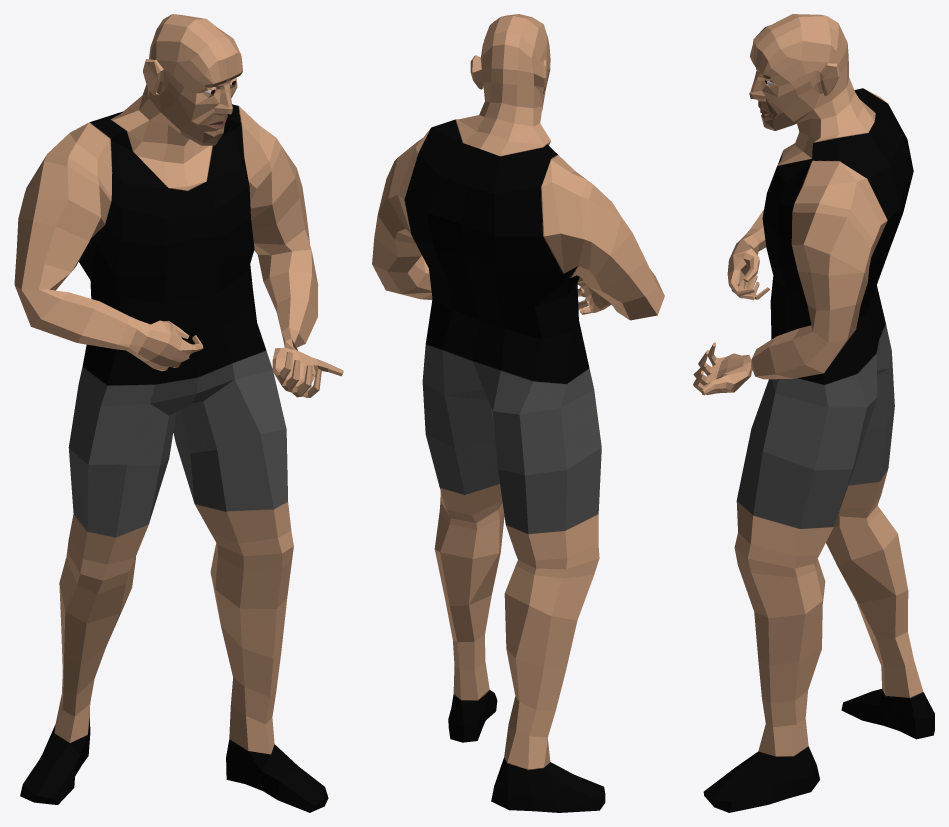
The model's file is PlayerIdle(175).obj.
The picture shows the model from 3 angles, left to right: view 1: azimuth 30°, elevation 25°; view 2: azimuth 150°, elevation 25°; view 3: azimuth 270°, elevation 25°; orthographic projection. The views are drawn at different scales.
Parts seen in each view (by area): view 1: Plane002; view 2: Plane002; view 3: Plane002.
Part boxes in pixels (box(x1,y1,x2,y2)): Plane002: box(14, 14, 343, 812); Plane002: box(372, 14, 664, 812); Plane002: box(693, 14, 934, 812).
Bounding box in the file's own units: 714 × 1800 × 526.
